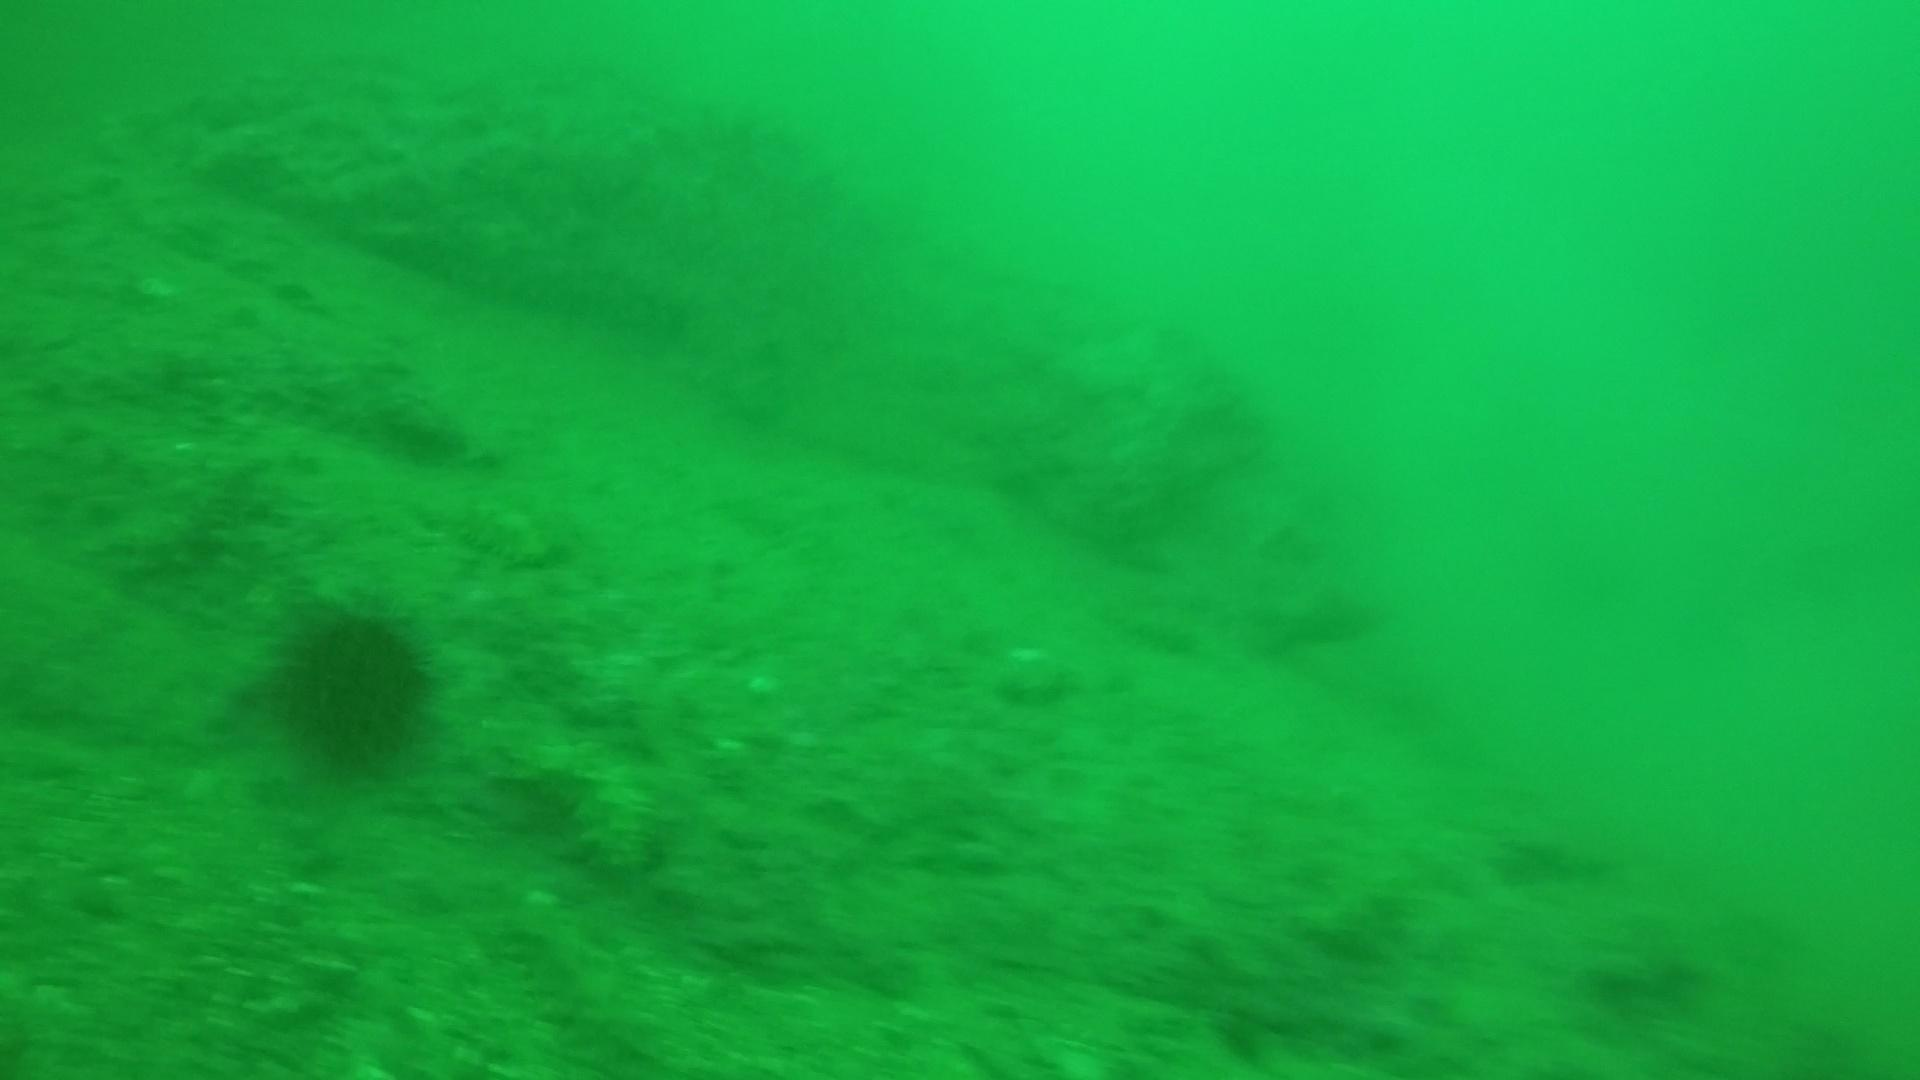echinus: (261, 593, 443, 775)
